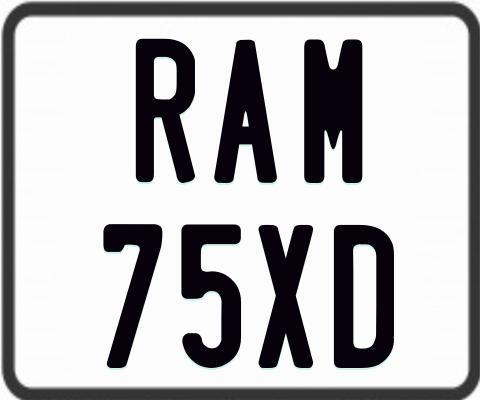5: (178, 221, 239, 365)
7: (102, 221, 165, 370)
A: (212, 39, 276, 182)
D: (333, 225, 397, 374)
M: (302, 38, 361, 186)
R: (135, 39, 195, 187)
X: (257, 223, 317, 370)
